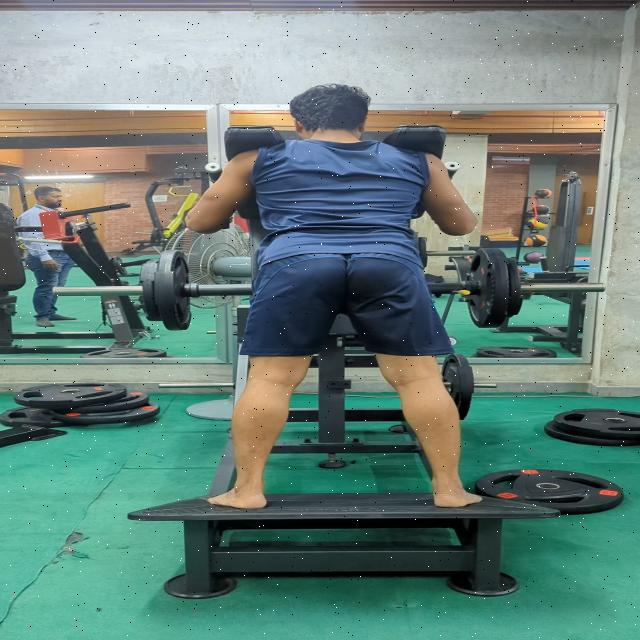Normal_SquatsWithBarbell: (172, 73, 500, 531)
